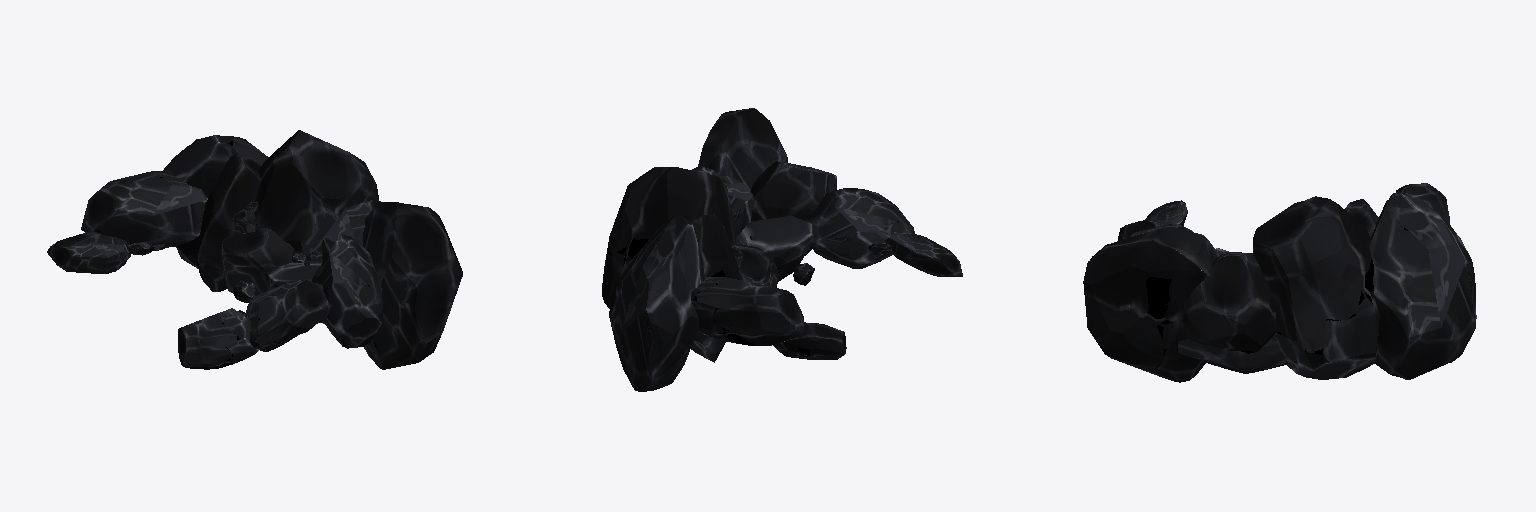
3 renders of one model, left to right at view 1: azimuth 30°, elevation 25°; view 2: azimuth 150°, elevation 25°; view 3: azimuth 270°, elevation 25°, orthographic.
Visible parts, largest first — view 1: Cube.043_Cube.045, Cube.018_Cube.028, Cube.036_Cube.037, Cube.042_Cube.044, Cube.015_Cube.025, Cube.041_Cube.043, Cube.044_Cube.046, Cube.040_Cube.042, Cube.016_Cube.026, Cube.037_Cube.038, Cube.031_Cube.032, Cube.029_Cube.030; view 2: Cube.040_Cube.042, Cube.018_Cube.028, Cube.036_Cube.037, Cube.041_Cube.043, Cube.043_Cube.045, Cube.042_Cube.044, Cube.029_Cube.030, Cube.015_Cube.025, Cube.044_Cube.046, Cube.037_Cube.038, Cube.016_Cube.026, Cube.031_Cube.032; view 3: Cube.018_Cube.028, Cube.040_Cube.042, Cube.043_Cube.045, Cube.031_Cube.032, Cube.029_Cube.030, Cube.036_Cube.037, Cube.044_Cube.046, Cube.015_Cube.025.
Part boxes in pixels (x1,y1,x2,y2): Cube.043_Cube.045: (363, 201, 462, 369); Cube.018_Cube.028: (255, 130, 378, 256); Cube.036_Cube.037: (81, 171, 207, 247); Cube.042_Cube.044: (312, 234, 382, 348); Cube.015_Cube.025: (198, 154, 260, 291); Cube.041_Cube.043: (245, 280, 332, 351); Cube.044_Cube.046: (178, 308, 259, 369); Cube.040_Cube.042: (163, 135, 268, 268); Cube.016_Cube.026: (221, 227, 293, 295); Cube.037_Cube.038: (47, 231, 130, 273); Cube.031_Cube.032: (322, 200, 375, 260); Cube.029_Cube.030: (264, 260, 324, 323); Cube.040_Cube.042: (609, 215, 704, 391); Cube.018_Cube.028: (602, 167, 735, 308); Cube.036_Cube.037: (691, 277, 803, 345); Cube.041_Cube.043: (806, 188, 914, 268); Cube.043_Cube.045: (698, 108, 787, 190); Cube.042_Cube.044: (750, 161, 836, 255); Cube.029_Cube.030: (736, 215, 819, 281); Cube.015_Cube.025: (691, 214, 739, 362); Cube.044_Cube.046: (885, 232, 962, 276); Cube.037_Cube.038: (773, 322, 846, 359); Cube.016_Cube.026: (732, 243, 779, 287); Cube.031_Cube.032: (692, 166, 754, 235); Cube.018_Cube.028: (1253, 196, 1379, 379); Cube.040_Cube.042: (1369, 194, 1476, 379); Cube.043_Cube.045: (1083, 227, 1219, 382); Cube.031_Cube.032: (1181, 252, 1276, 353); Cube.029_Cube.030: (1178, 248, 1287, 373); Cube.036_Cube.037: (1393, 183, 1449, 223); Cube.044_Cube.046: (1145, 200, 1187, 225); Cube.015_Cube.025: (1344, 199, 1378, 236).
Bounding box in the file's own units: 36.61 × 22.37 × 43.92.
1 materials, 1 textured.